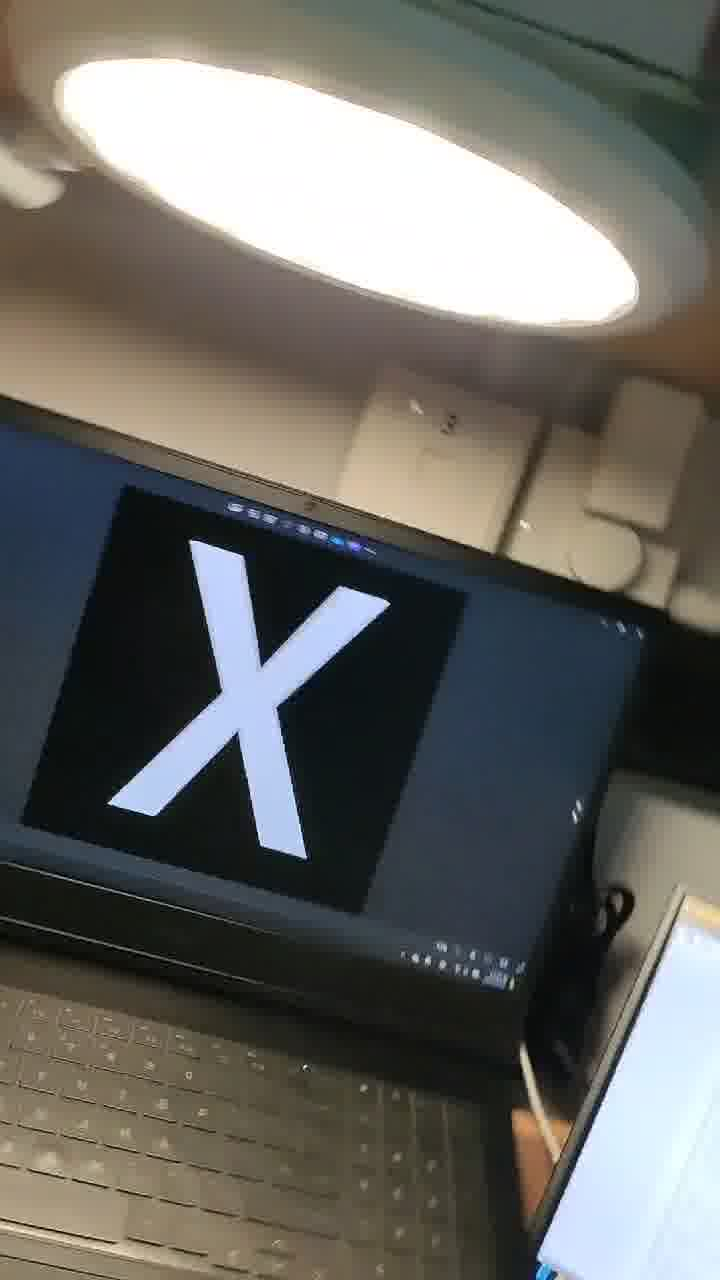X: (76, 460, 452, 938)
